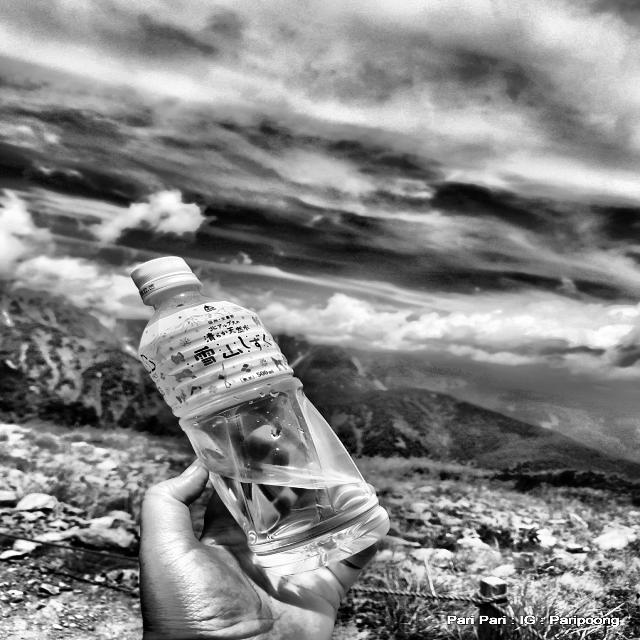waterbottle: (114, 246, 405, 589)
